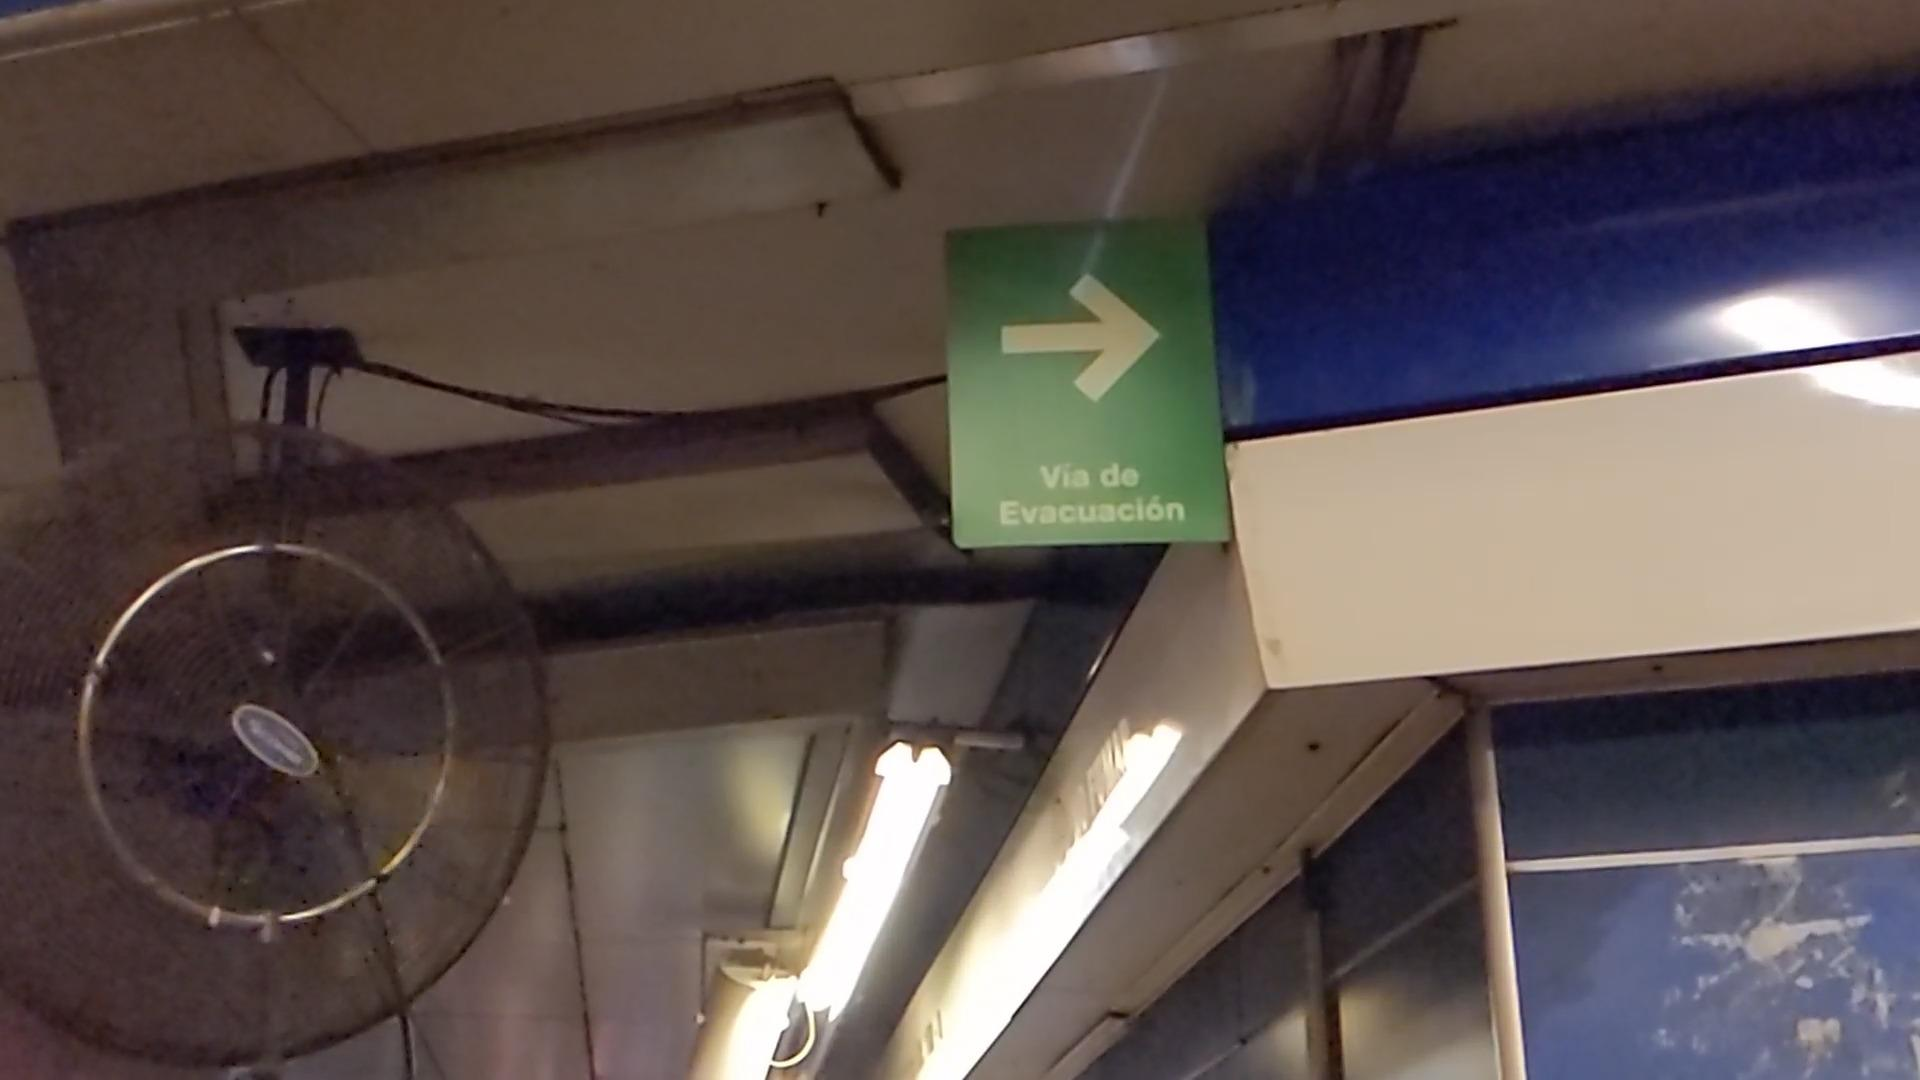down arrow: (996, 272, 1167, 404)
